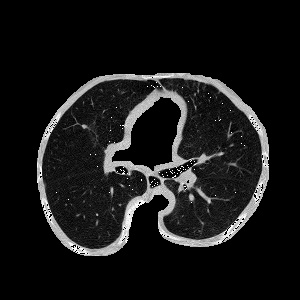PN: (82, 124, 86, 128)
